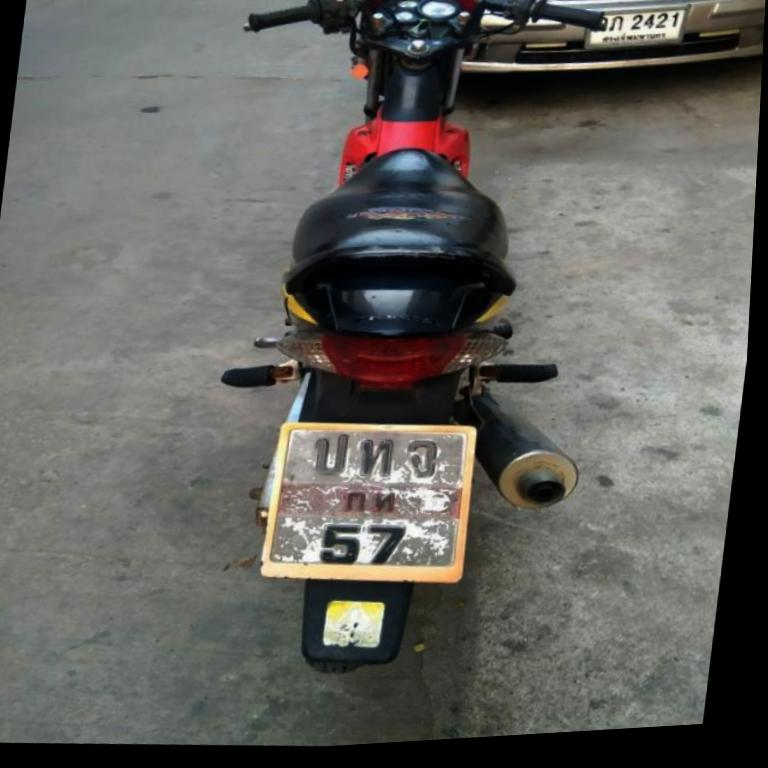license plate: (264, 423, 473, 580)
